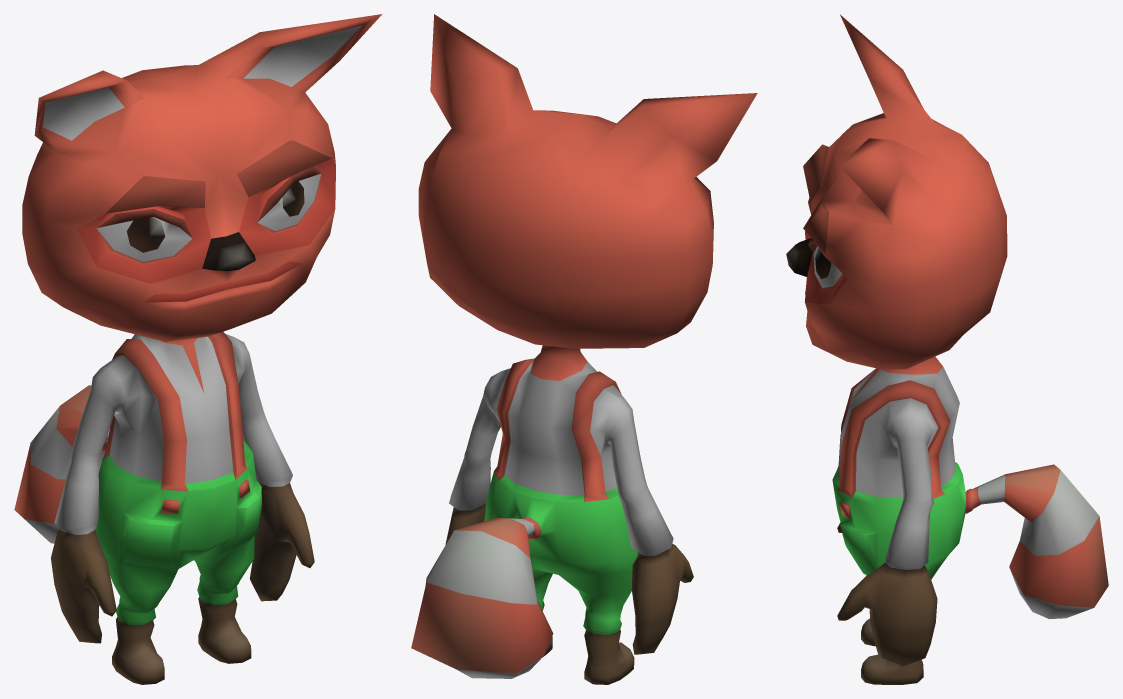
File: Geeeeeeeeeeee4.fbx
3 renders of one model, left to right at view 1: azimuth 30°, elevation 25°; view 2: azimuth 150°, elevation 25°; view 3: azimuth 270°, elevation 25°, orthographic. The views are drawn at different scales.
Parts seen in each view (by area): view 1: Cat?; view 2: Cat?; view 3: Cat?.
Boxes of the visible parts, left/top/right/bottom form: Cat?: left=14, top=14, right=382, bottom=684; Cat?: left=411, top=14, right=757, bottom=684; Cat?: left=786, top=14, right=1108, bottom=684.
Bounding box in the file's own units: 594 × 1034 × 532.
